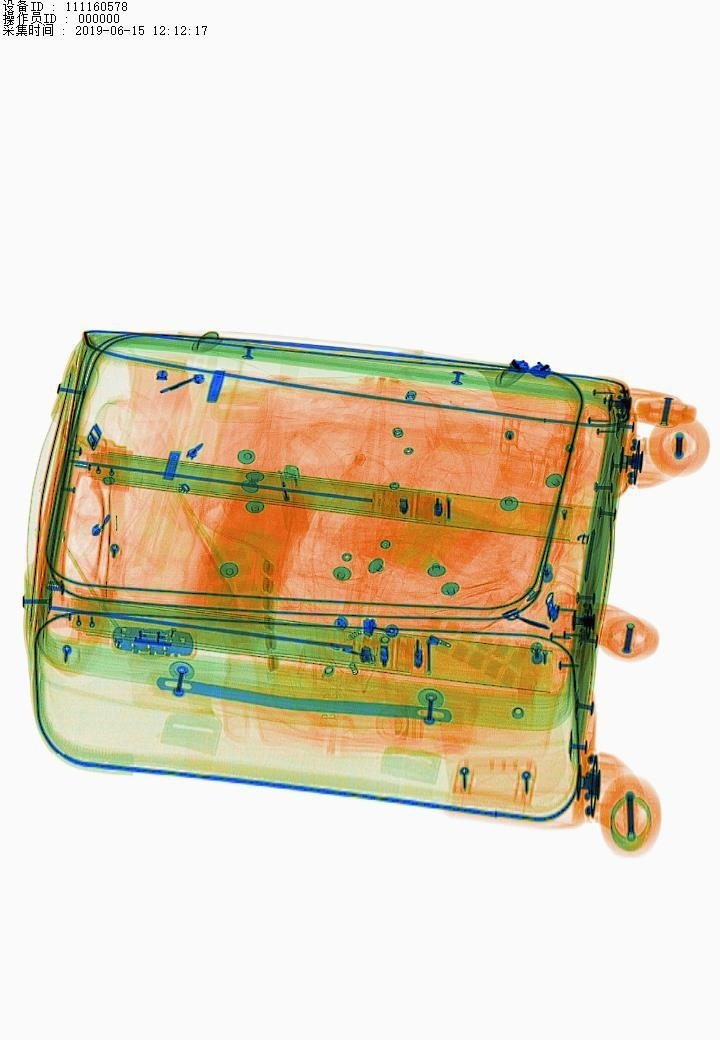NonmetallicFire: (272, 450, 347, 559)
